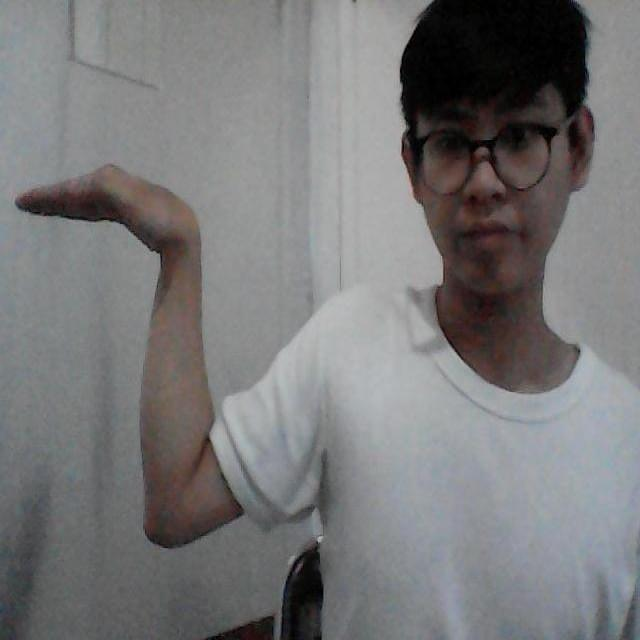Z: (12, 157, 278, 558)
